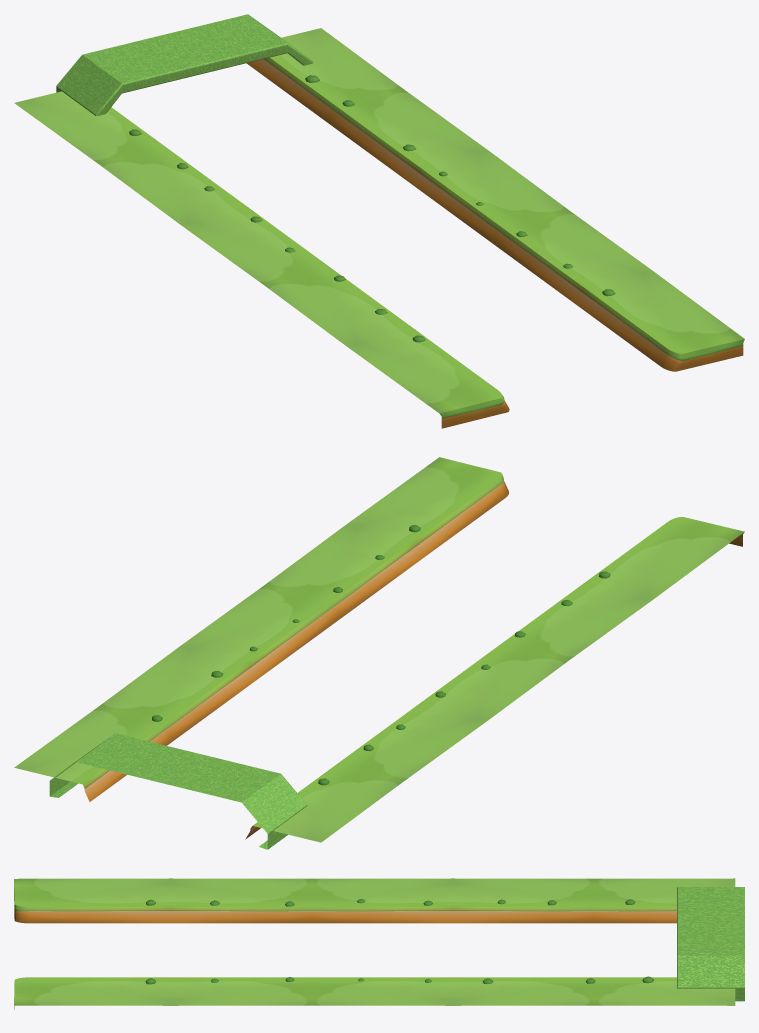
File: BG Green.fbx
3 renders of one model, top to bottom at view 1: azimuth 30°, elevation 25°; view 2: azimuth 150°, elevation 25°; view 3: azimuth 270°, elevation 25°, orthographic. The views are drawn at different scales.
Visible parts, largest first — view 1: polySurface70, transform16, polySurface72; view 2: polySurface70, transform16, polySurface72; view 3: transform16, polySurface70, polySurface72, pCube28, pCube29.
Part boxes in pixels (x1=…): polySurface70: x1=246, y1=28, x2=744, y2=371; transform16: x1=14, y1=91, x2=509, y2=428; polySurface72: x1=56, y1=14, x2=313, y2=116; polySurface70: x1=14, y1=457, x2=508, y2=801; transform16: x1=245, y1=517, x2=744, y2=842; polySurface72: x1=49, y1=733, x2=307, y2=849; transform16: x1=14, y1=878, x2=735, y2=923; polySurface70: x1=14, y1=977, x2=735, y2=1009; polySurface72: x1=677, y1=887, x2=744, y2=1001; pCube28: x1=146, y1=899, x2=635, y2=906; pCube29: x1=145, y1=976, x2=653, y2=984.
Size of the model in its own units: 1909 by 251 by 4631.
1 material, 1 textured.
